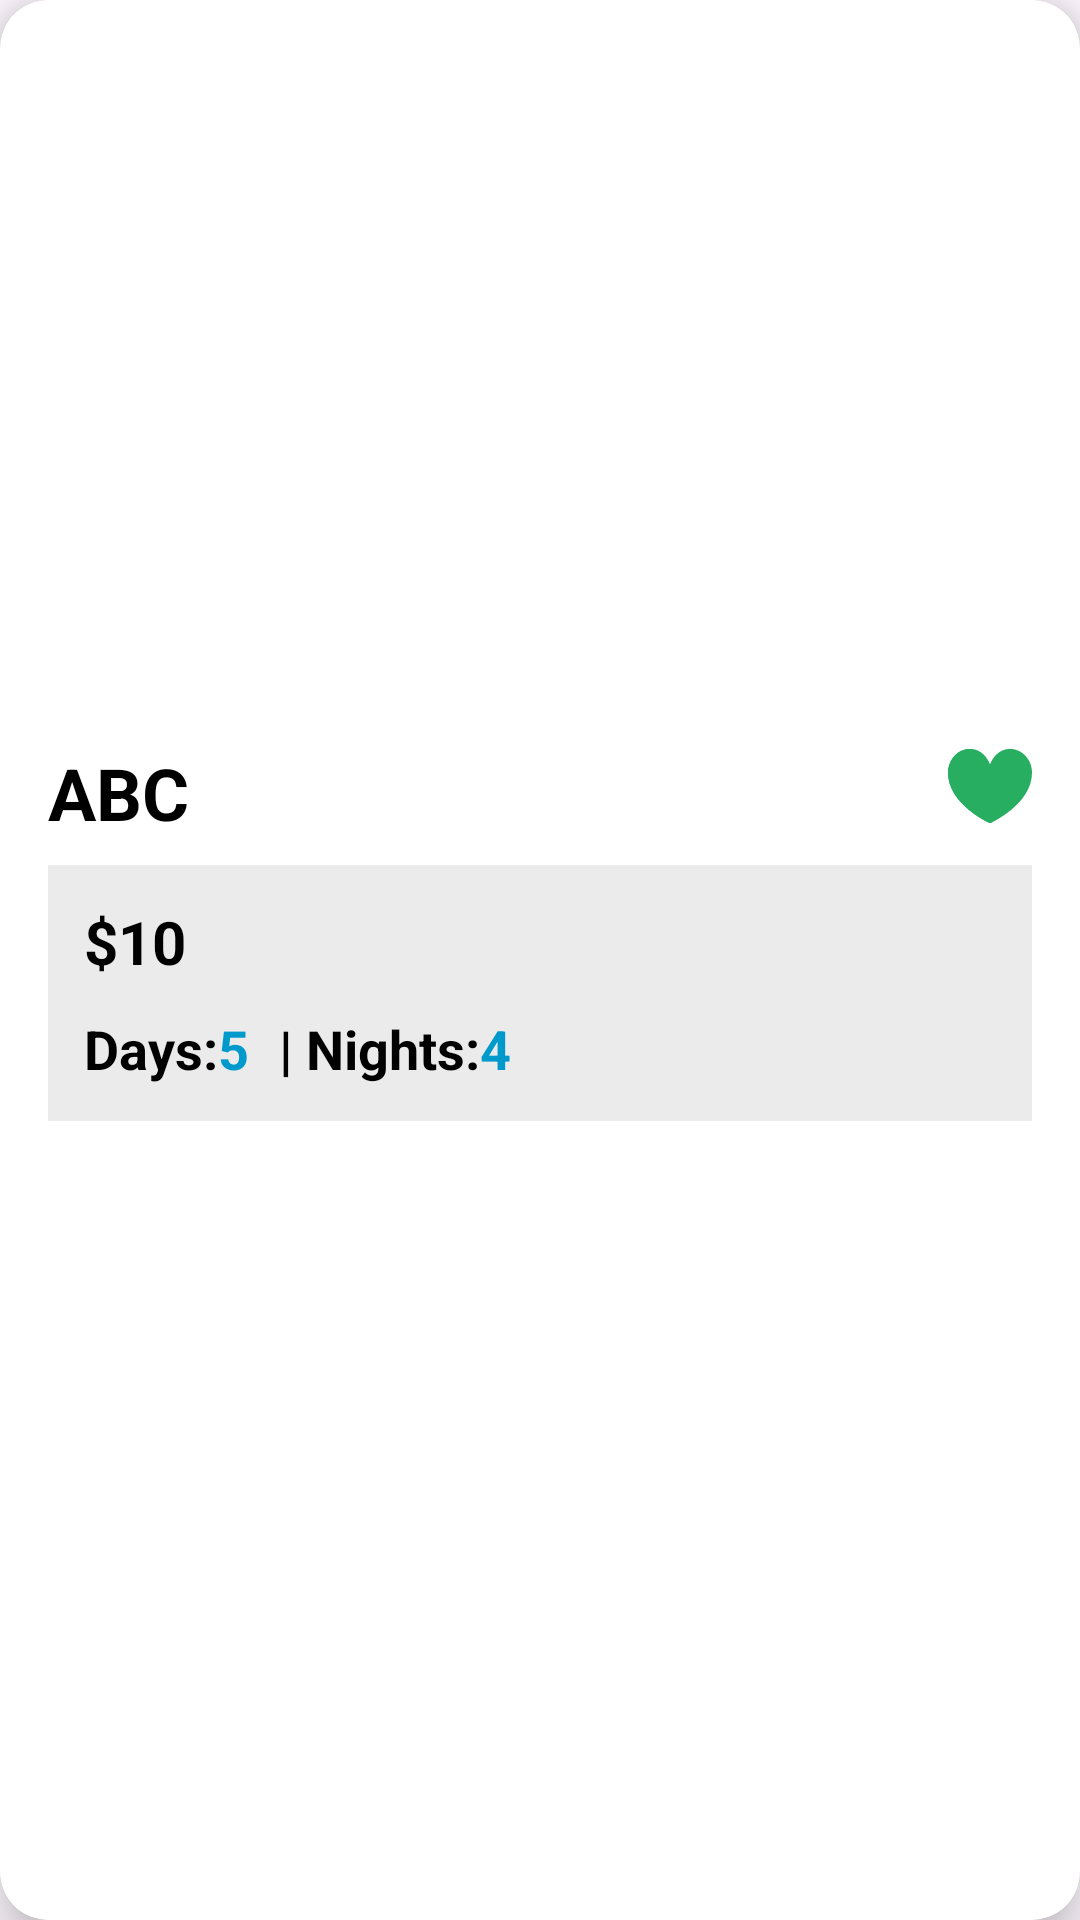

Icon bounding boxes for this 1080px x 1920px phone screenshot, format rect(x1, y1, x2, y2):
heart: rect(948, 749, 1032, 823)
